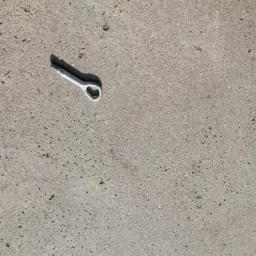FOD: (49, 54, 105, 104)
